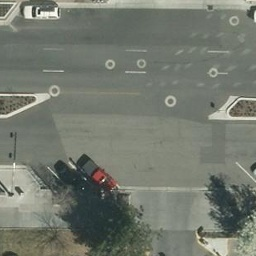car: (79, 153, 116, 189), (53, 159, 89, 194), (22, 5, 63, 22)
